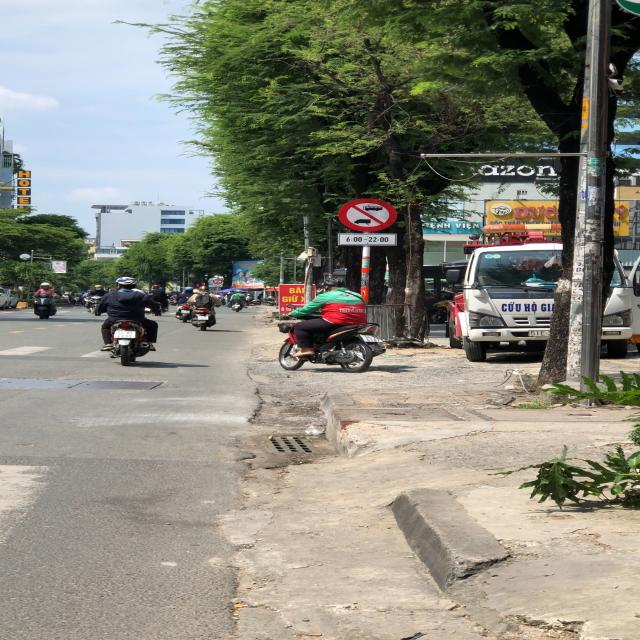Bien bao cam xe oto khach va xe oto tai: (334, 196, 399, 233)
